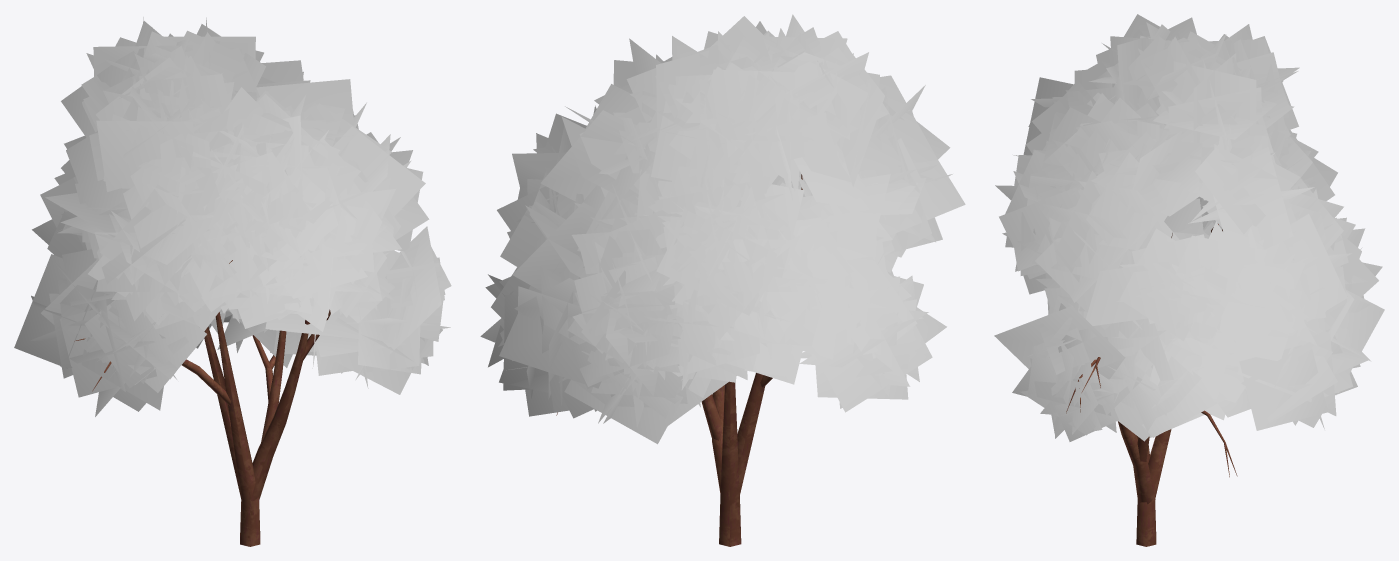
The model's file is S_Tree_F_LOD_1.fbx.
3 views of the same model, side by side, from view 1: azimuth 30°, elevation 25°; view 2: azimuth 150°, elevation 25°; view 3: azimuth 270°, elevation 25° (orthographic). The views are drawn at different scales.
Visible parts, largest first — view 1: S_Tree_F_LOD_1; view 2: S_Tree_F_LOD_1; view 3: S_Tree_F_LOD_1.
Part boxes in pixels (left/top/right/bottom): S_Tree_F_LOD_1: left=14, top=17, right=451, bottom=546; S_Tree_F_LOD_1: left=480, top=14, right=965, bottom=546; S_Tree_F_LOD_1: left=994, top=14, right=1384, bottom=546.
Size of the model in its own units: 391 by 507 by 365.
